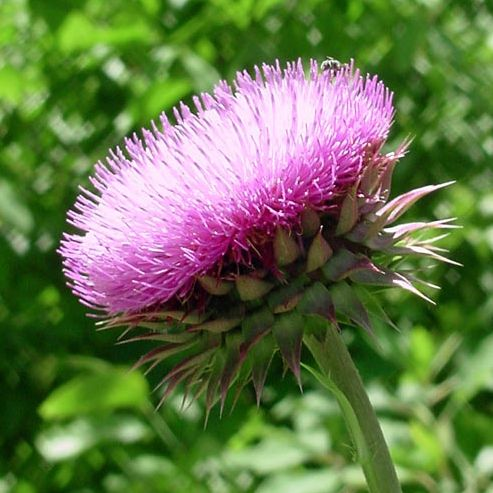thistle: (47, 60, 459, 404)
